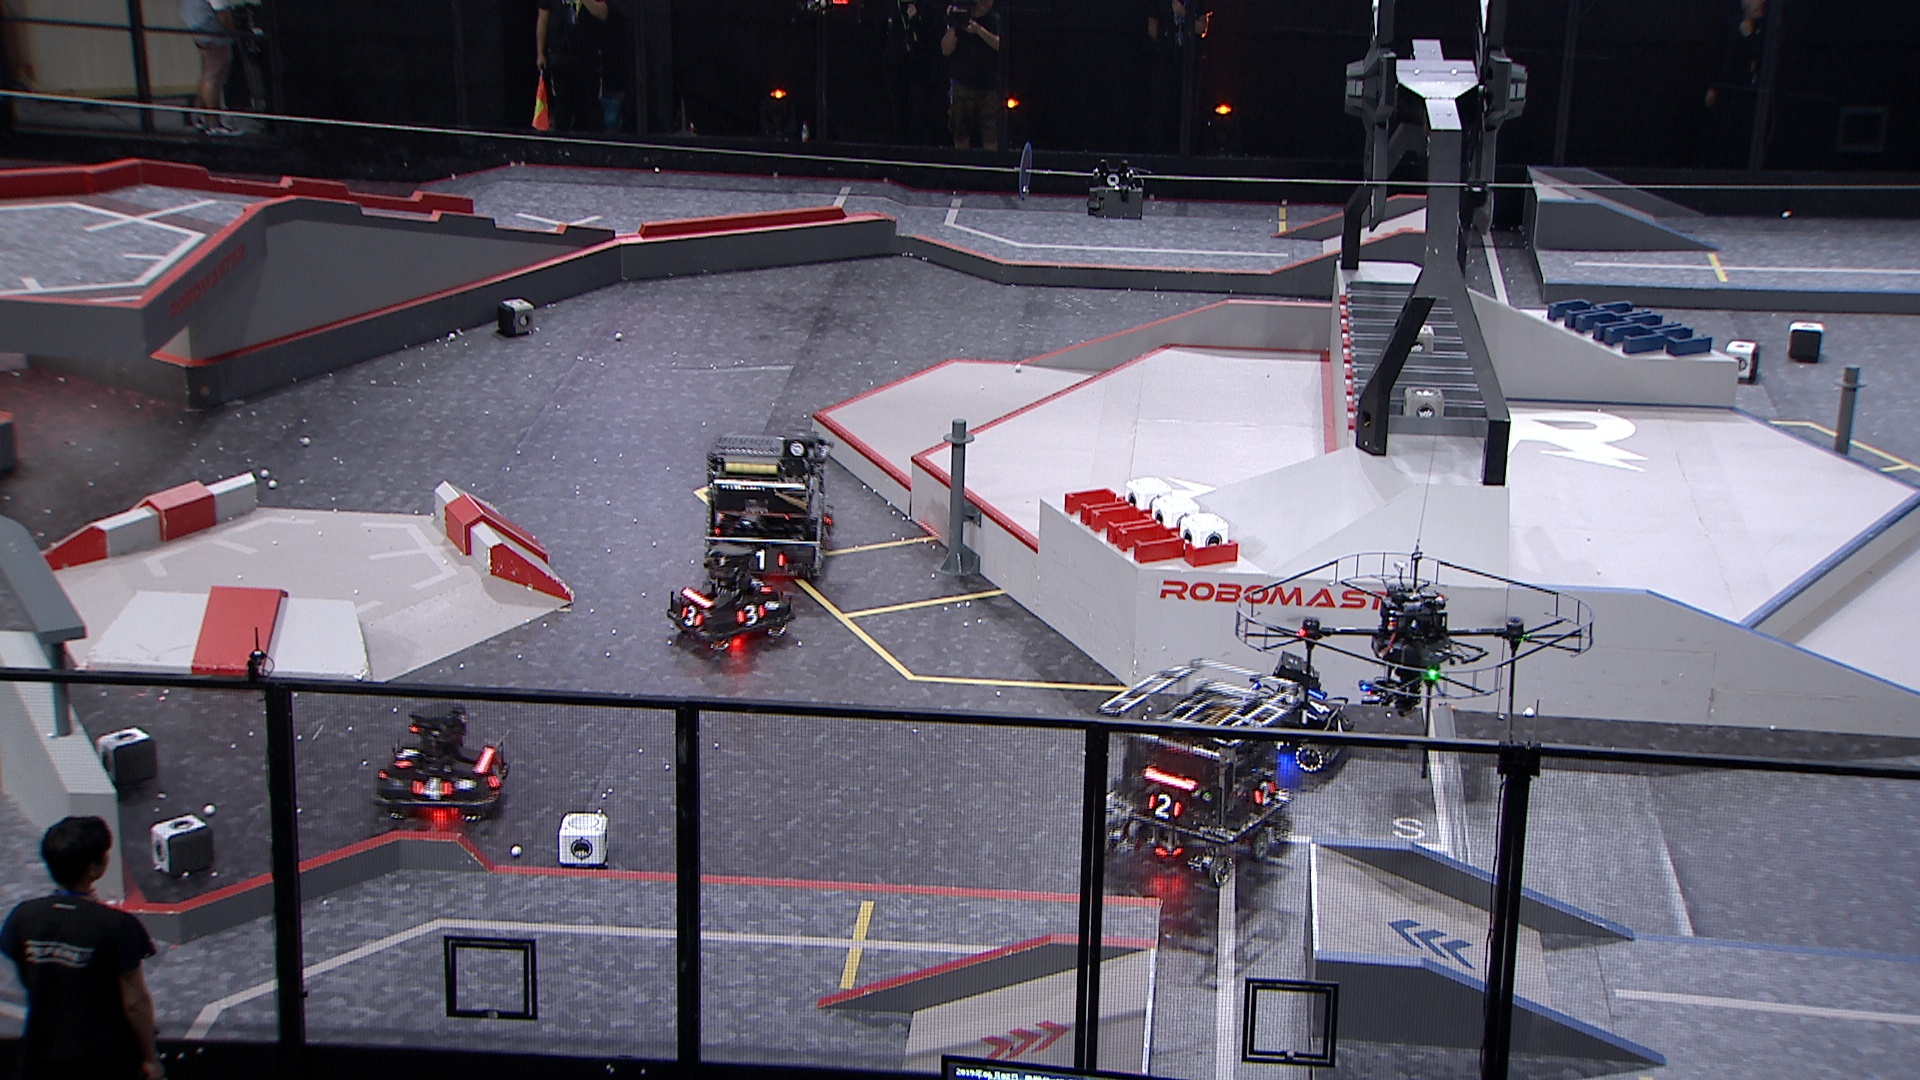armor: (409, 775, 456, 804), (1145, 790, 1185, 823), (746, 550, 789, 572), (1300, 698, 1335, 723), (733, 604, 766, 626), (392, 742, 419, 769), (1251, 782, 1278, 807), (487, 761, 506, 793), (678, 604, 704, 628), (746, 579, 771, 595)
car: (1097, 655, 1300, 880), (698, 431, 843, 585), (367, 703, 514, 818), (1229, 654, 1360, 771), (662, 543, 793, 655)
